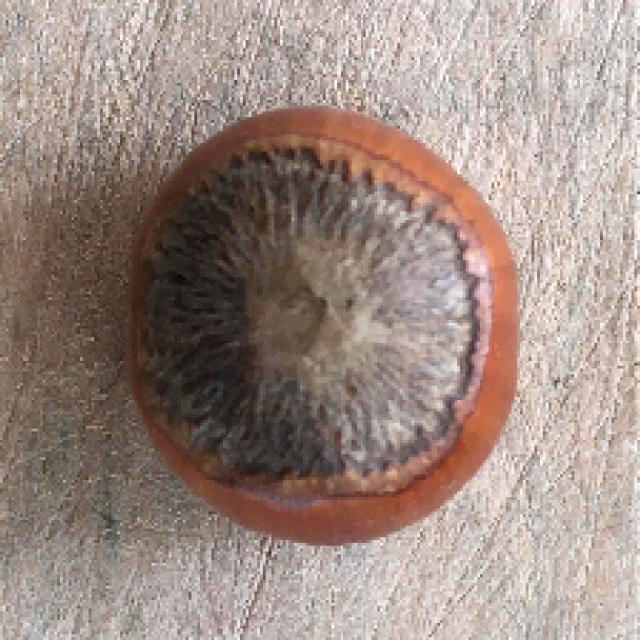qualityHazelnut: (121, 97, 526, 557)
